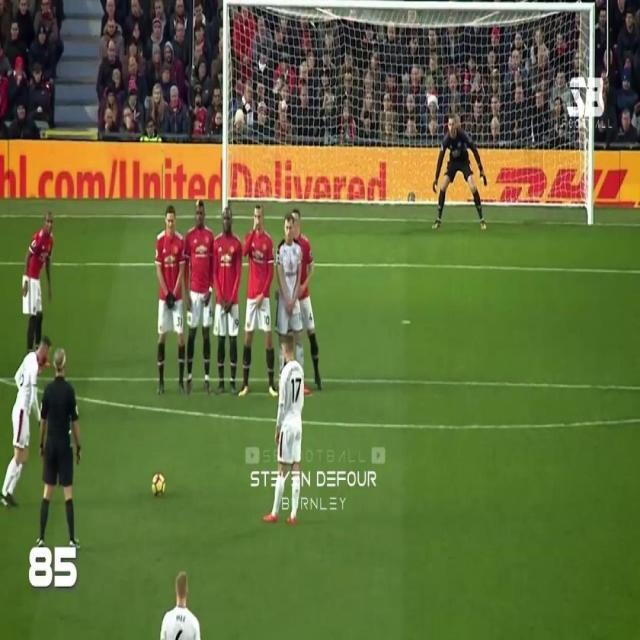ball: (150, 470, 169, 498)
goalkeeper: (432, 118, 494, 233)
player: (0, 334, 50, 510), (270, 335, 312, 532), (235, 207, 276, 397), (288, 210, 326, 387), (152, 208, 187, 399), (18, 206, 62, 350), (185, 198, 214, 397), (215, 206, 244, 391), (156, 563, 207, 640), (275, 217, 299, 373)
referee: (41, 348, 80, 553)
